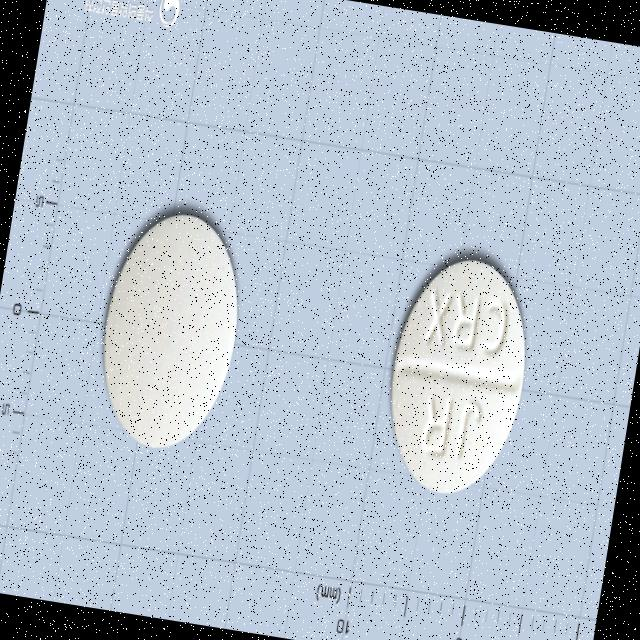Ciroxin - 250mg: (82, 196, 258, 462), (372, 240, 546, 508)
